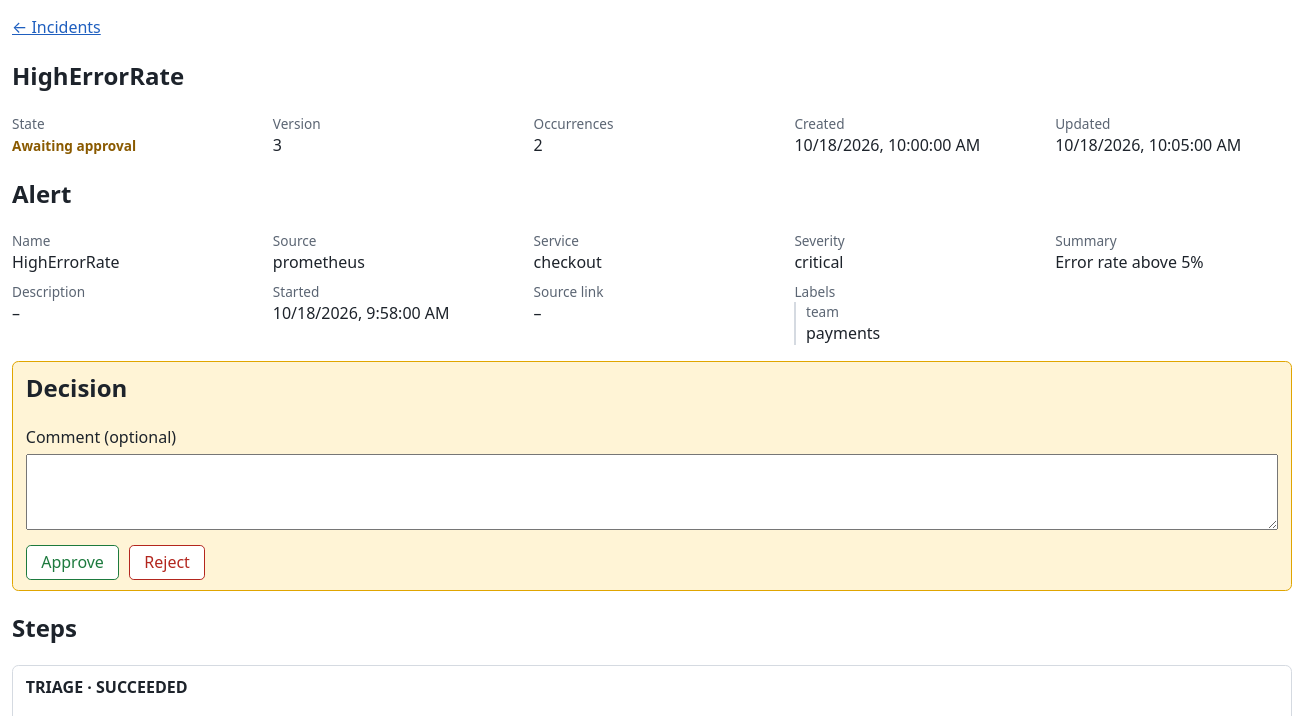
Test case: IncidentDetailPage › explains that no decision is possible any more (409)
The width and height of the screenshot is (1292, 716).
What coordinates should you click on to do the following:
click the button "Approve"
I would click on:
 (73, 563)
Its box is [26,545,119,580].
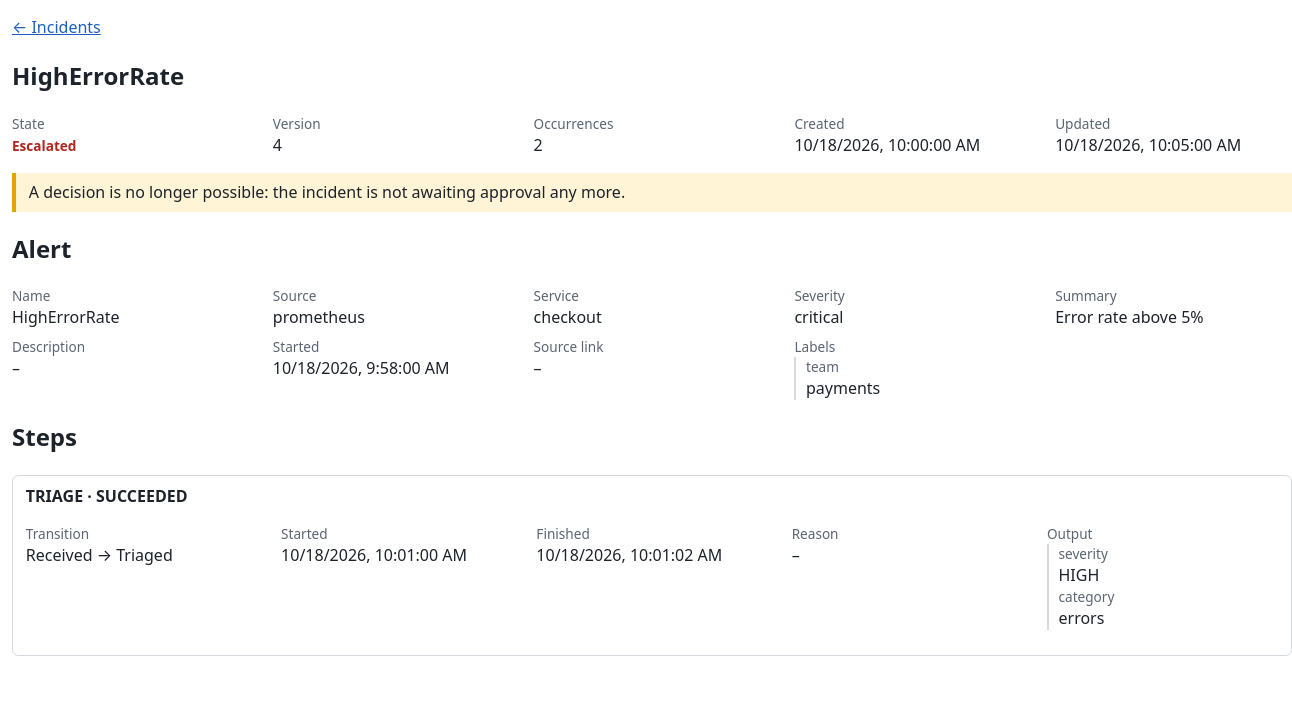
Expected: the message shows "no longer possible", [29,181,625,203]
Expected: the button "Approve" is gone
